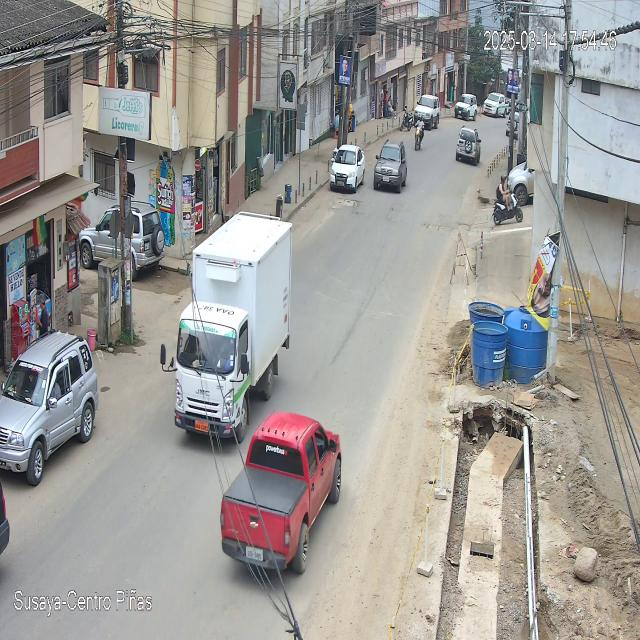CMT: (220, 412, 342, 578)
SUV: (373, 141, 406, 194)
TRUCK: (162, 212, 292, 439)
